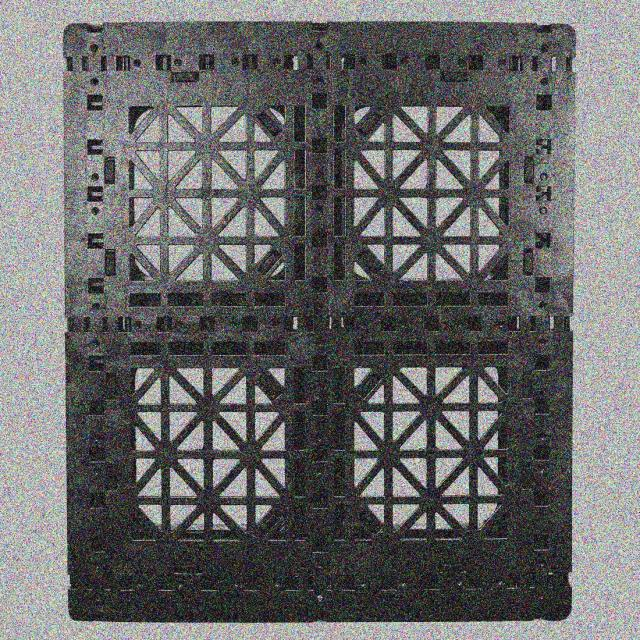non-igps: (39, 5, 594, 629)
